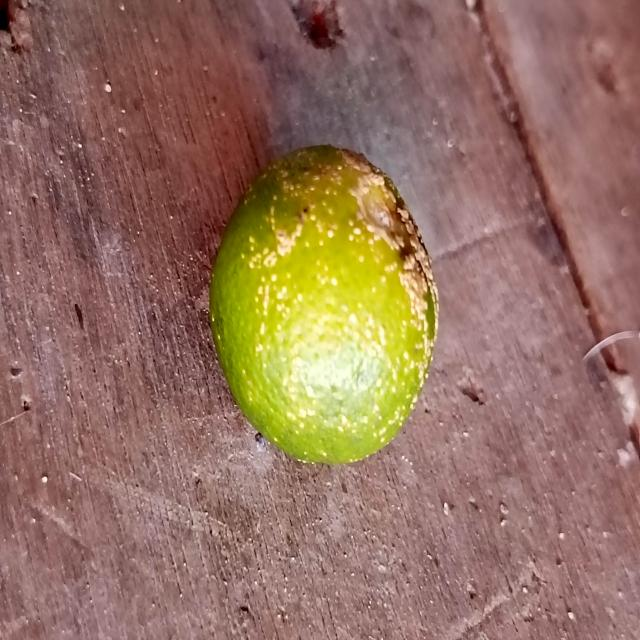scab: (175, 141, 462, 476)
